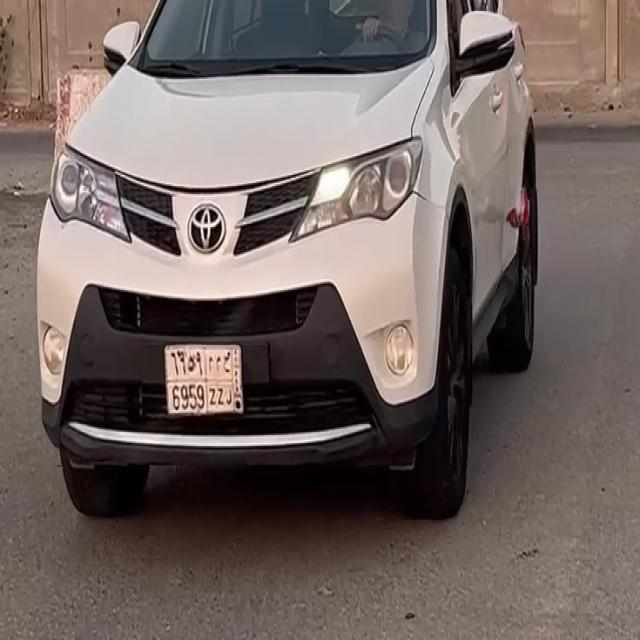Car-plate: (158, 327, 250, 430)
